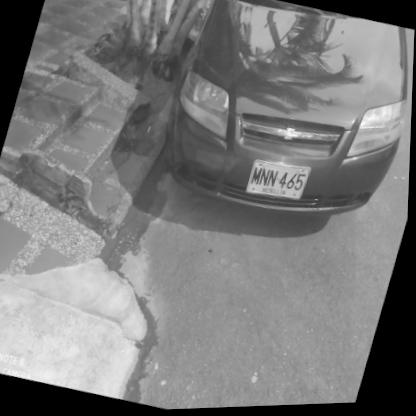placa: (241, 152, 315, 211)
